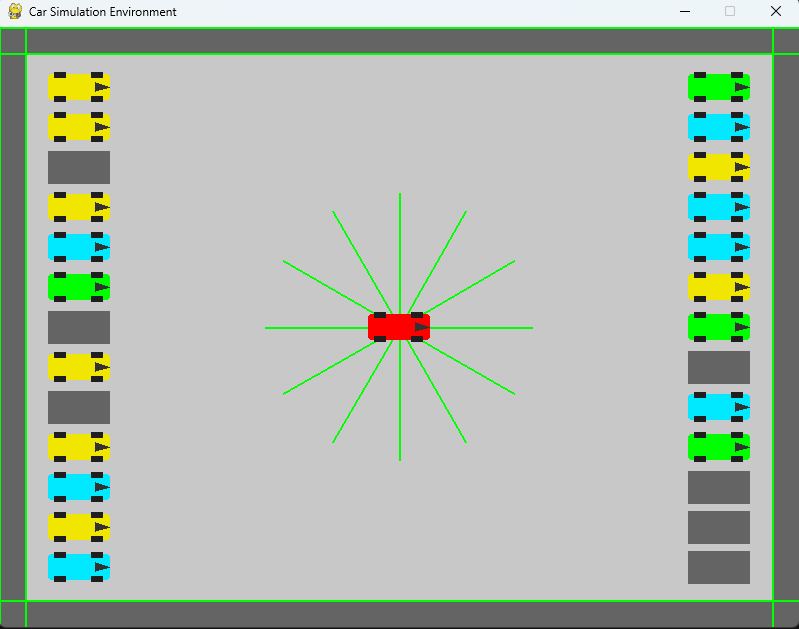ControlledCar: (360, 304, 442, 354)
ParkedCar: (44, 185, 115, 227), (679, 68, 755, 106), (43, 65, 116, 104), (44, 229, 115, 267), (685, 270, 759, 306), (684, 310, 758, 346), (46, 468, 115, 505), (680, 150, 757, 183), (683, 390, 754, 425), (42, 111, 115, 145), (681, 110, 754, 144), (43, 271, 117, 304), (685, 428, 754, 463), (46, 429, 114, 464), (684, 189, 754, 223), (686, 228, 752, 263), (44, 550, 112, 583), (47, 349, 112, 382), (48, 513, 116, 544)
ParkingSpot: (678, 464, 752, 509), (680, 548, 759, 588), (683, 346, 755, 388), (44, 147, 118, 186), (42, 387, 117, 425), (46, 306, 113, 346), (684, 509, 758, 545)
